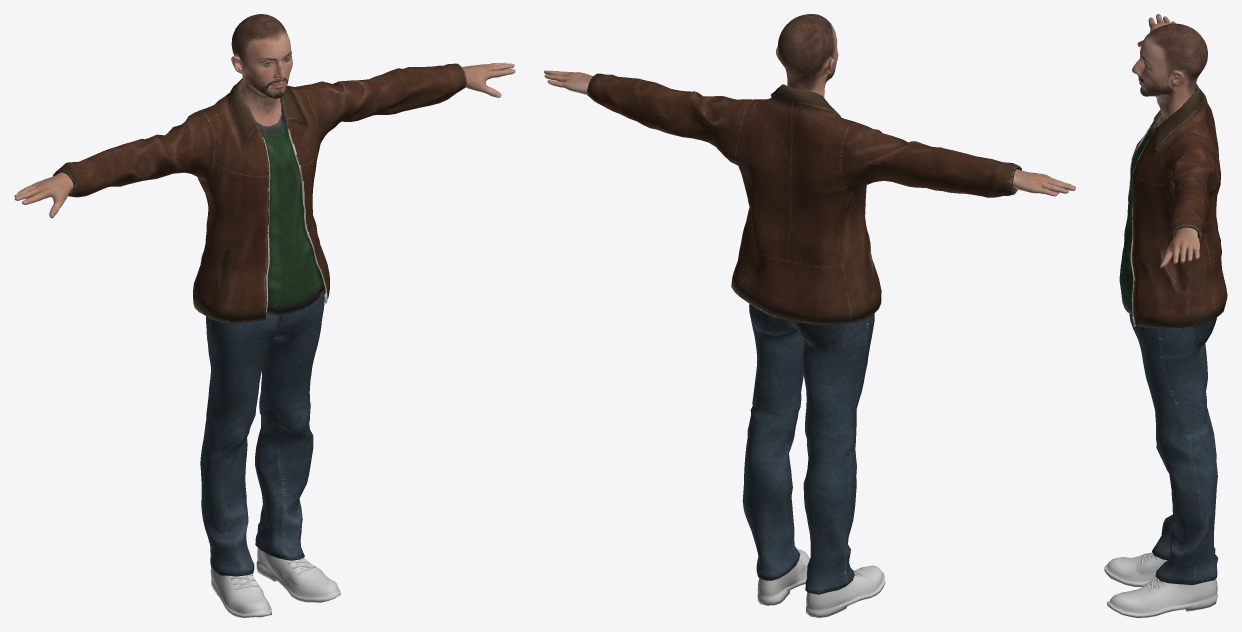
The model's file is Guy1.obj.
3 renders of one model, left to right at view 1: azimuth 30°, elevation 25°; view 2: azimuth 150°, elevation 25°; view 3: azimuth 270°, elevation 25°, orthographic. The views are drawn at different scales.
Visible parts, largest first — view 1: Tops, Bottoms, Body, Shoes; view 2: Tops, Bottoms, Body, Shoes; view 3: Tops, Bottoms, Body, Shoes.
Part boxes in pixels (x1=…): Tops: x1=53, y1=63, x2=466, y2=323; Bottoms: x1=200, y1=293, x2=324, y2=576; Body: x1=14, y1=14, x2=515, y2=218; Shoes: x1=210, y1=548, x2=340, y2=617; Tops: x1=587, y1=73, x2=1021, y2=325; Bottoms: x1=742, y1=304, x2=874, y2=594; Body: x1=544, y1=14, x2=1075, y2=196; Shoes: x1=757, y1=549, x2=885, y2=617; Tops: x1=1119, y1=83, x2=1227, y2=328; Bottoms: x1=1129, y1=313, x2=1218, y2=584; Body: x1=1132, y1=14, x2=1207, y2=267; Shoes: x1=1104, y1=552, x2=1217, y2=617.
Size of the model in its own units: 173 by 186 by 36.48.
